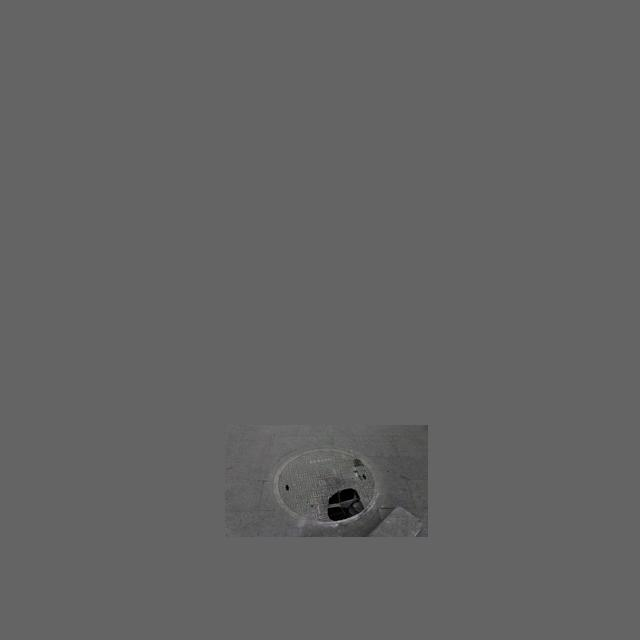broke: (273, 447, 380, 524)
